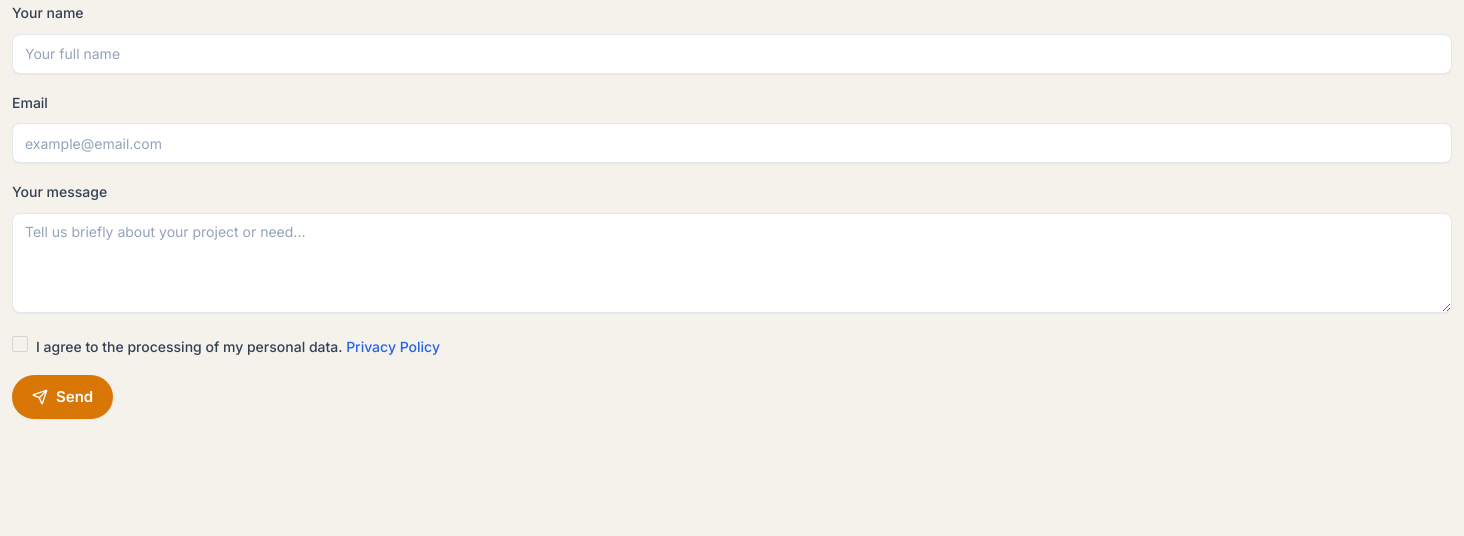
ContactForm › validation (English) › shows error for empty name
Step 1. Click the button "Send" → {"x": 63, "y": 397}, box [12,375,113,419]
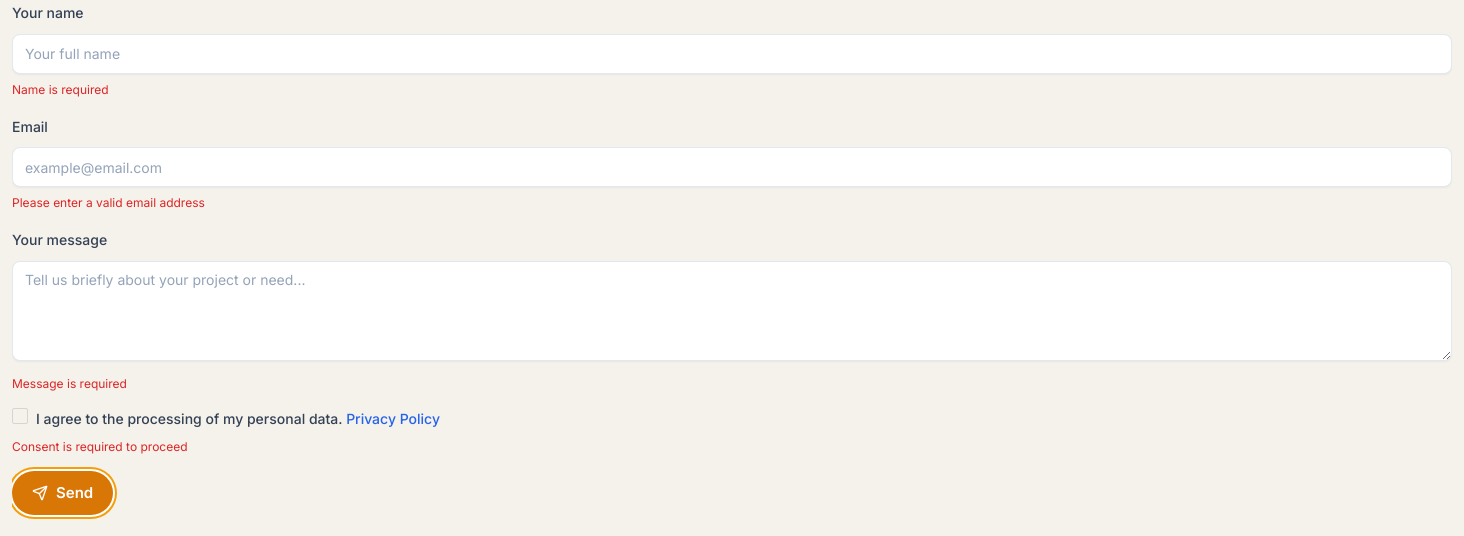
Expected: the text "Name is required" is shown, [12,82,109,97]
